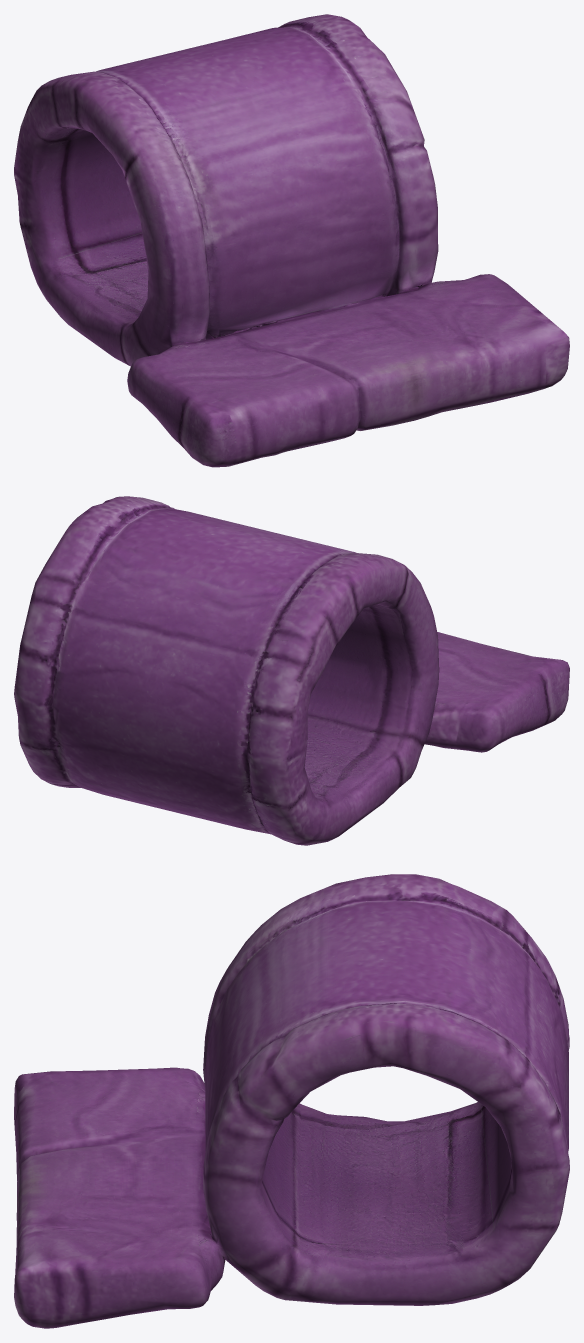
File: Meshy_AI_Purple_bolster_pillow_0610213435_texture.fbx
The picture shows the model from 3 angles, top to bottom: view 1: azimuth 30°, elevation 25°; view 2: azimuth 150°, elevation 25°; view 3: azimuth 270°, elevation 25°; orthographic projection. The views are drawn at different scales.
Visible parts, largest first — view 1: Mesh_0; view 2: Mesh_0; view 3: Mesh_0.
Part boxes in pixels (bbox=[...]): Mesh_0: bbox=[14, 14, 569, 467]; Mesh_0: bbox=[14, 496, 569, 845]; Mesh_0: bbox=[14, 874, 569, 1328].
Size of the model in its own units: 166 by 111 by 191.
Materials: 1 (1 with a texture image).
